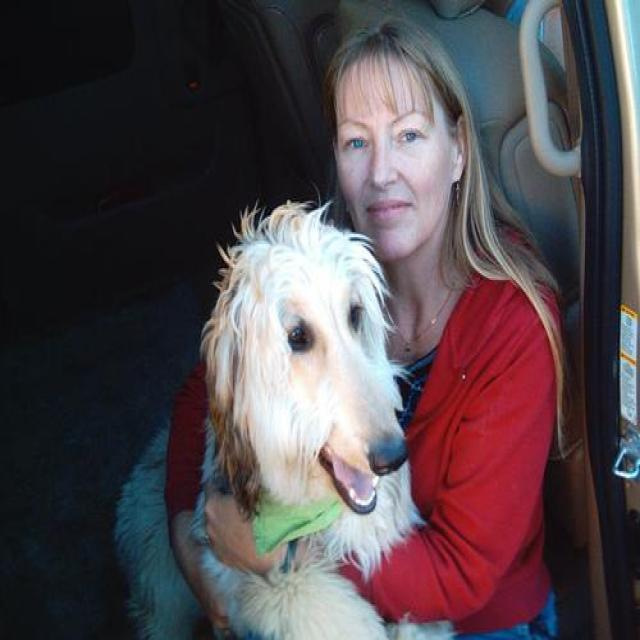afghan_hound: (119, 205, 454, 638)
